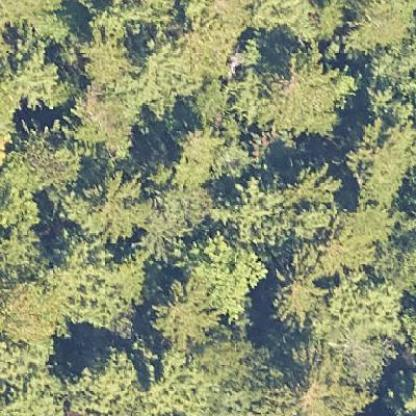tree-top: (229, 162, 339, 240), (345, 109, 412, 212), (264, 47, 342, 135), (142, 276, 216, 348), (80, 170, 148, 245), (75, 81, 139, 154), (76, 348, 144, 415), (358, 49, 415, 121), (342, 0, 415, 48), (270, 263, 322, 323), (78, 33, 133, 80)
